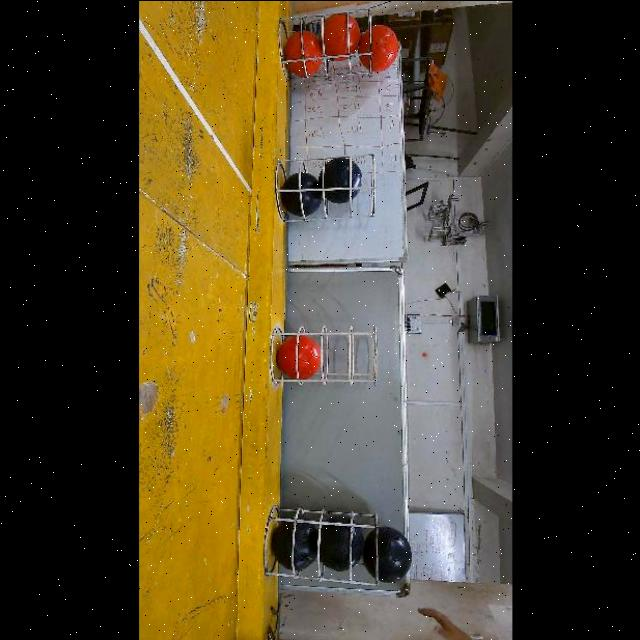P: (364, 526, 412, 582), (272, 521, 318, 571), (320, 524, 365, 572), (320, 156, 364, 203), (281, 172, 324, 216)
R: (277, 334, 321, 380), (359, 24, 399, 71), (285, 29, 324, 76), (324, 12, 361, 60)
S: (258, 506, 384, 590), (271, 150, 385, 220), (272, 7, 376, 74), (264, 320, 370, 384)
